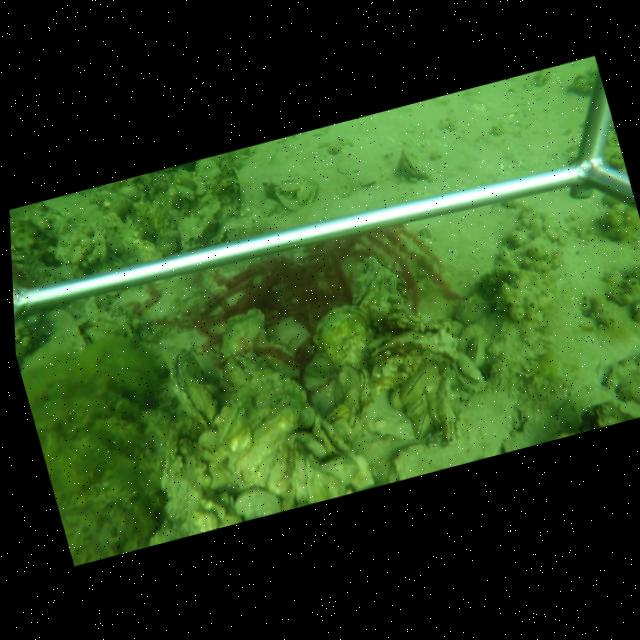Oyster-Closed: (167, 344, 220, 432), (351, 253, 410, 327), (178, 190, 223, 250), (436, 375, 458, 443), (398, 146, 430, 182), (398, 369, 430, 403), (410, 407, 434, 443), (465, 334, 486, 365)
Oyster-Indeterminate: (218, 307, 304, 383), (311, 302, 378, 379), (234, 486, 282, 520)
Oyster-Open: (449, 350, 489, 392)
